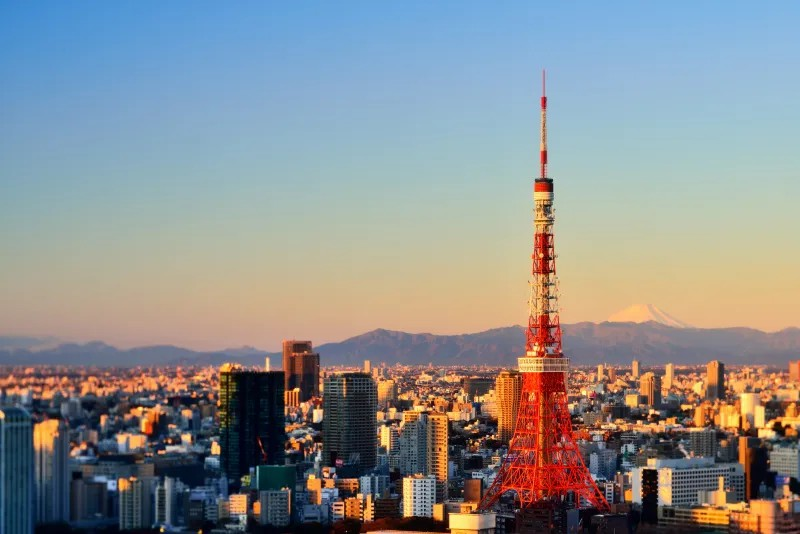Tokyo: (479, 65, 609, 514)
